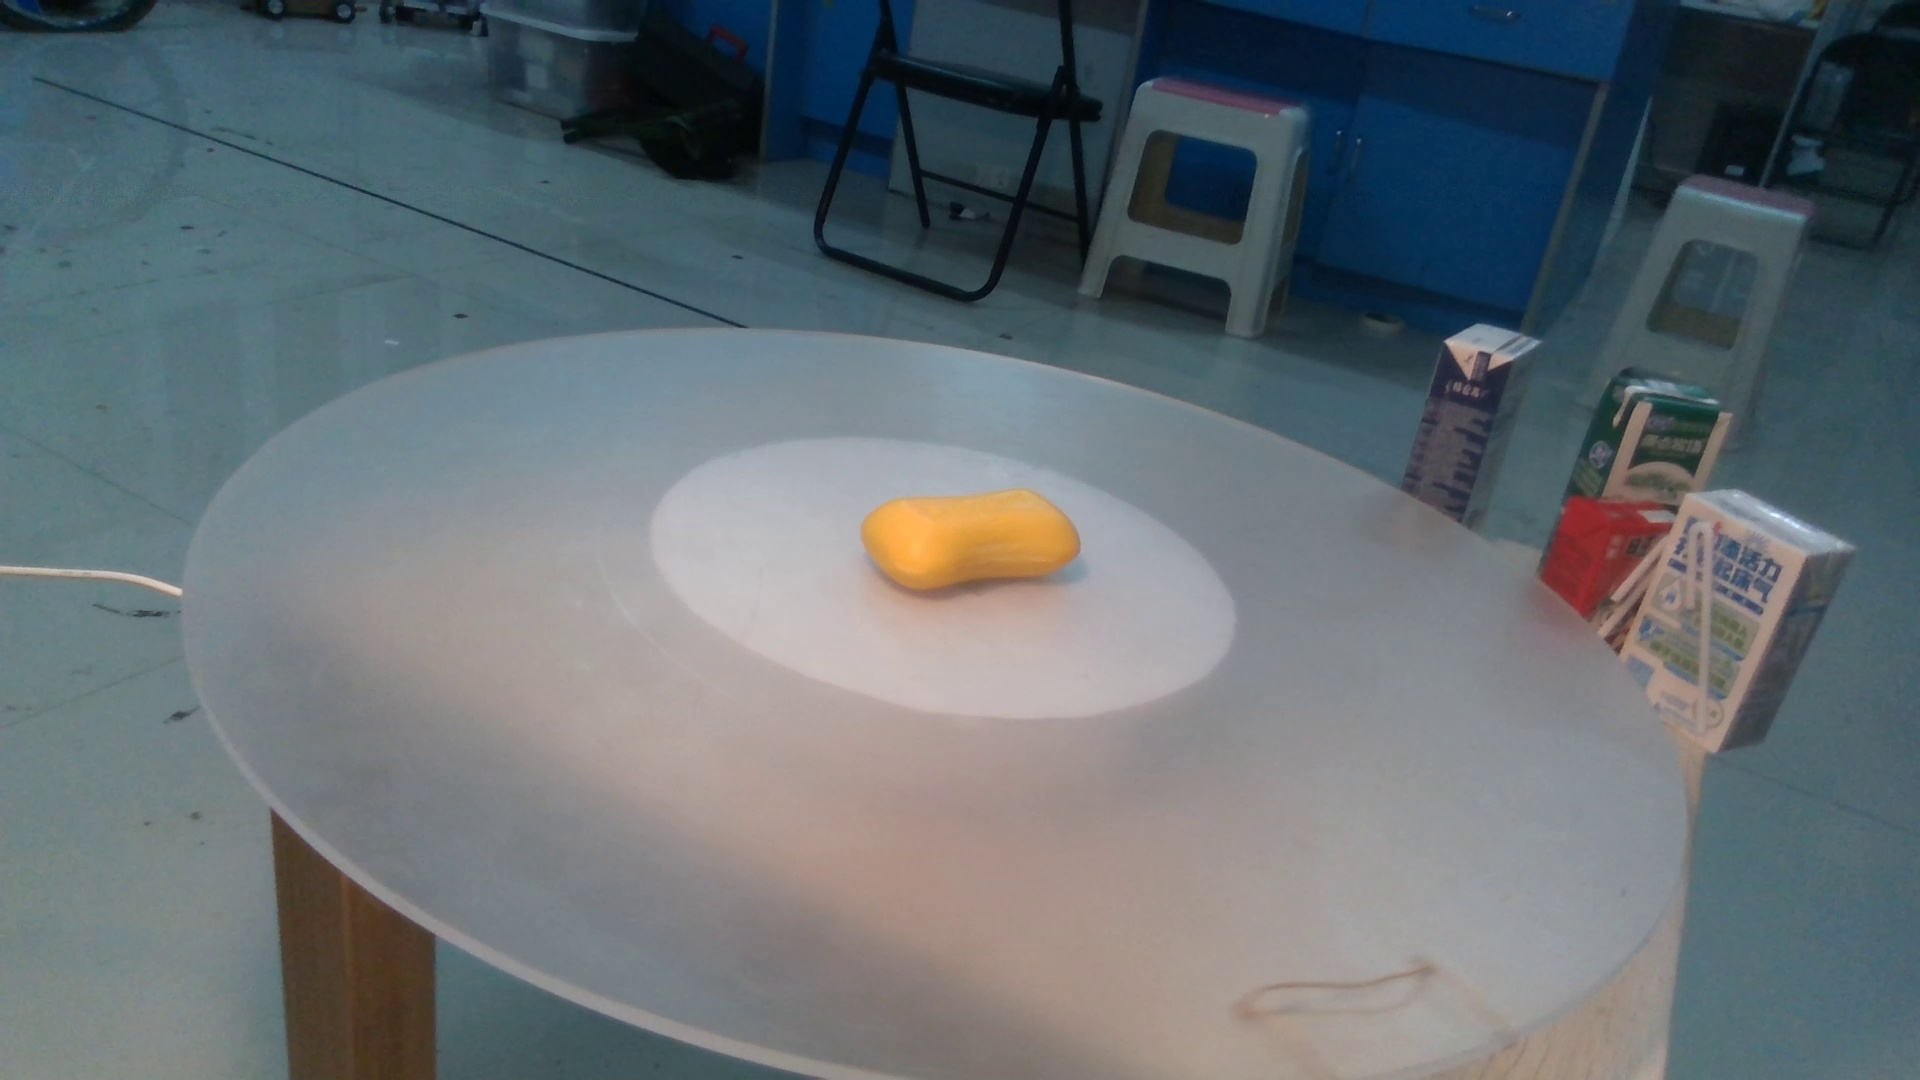CA003_1: (862, 448, 1124, 617)
